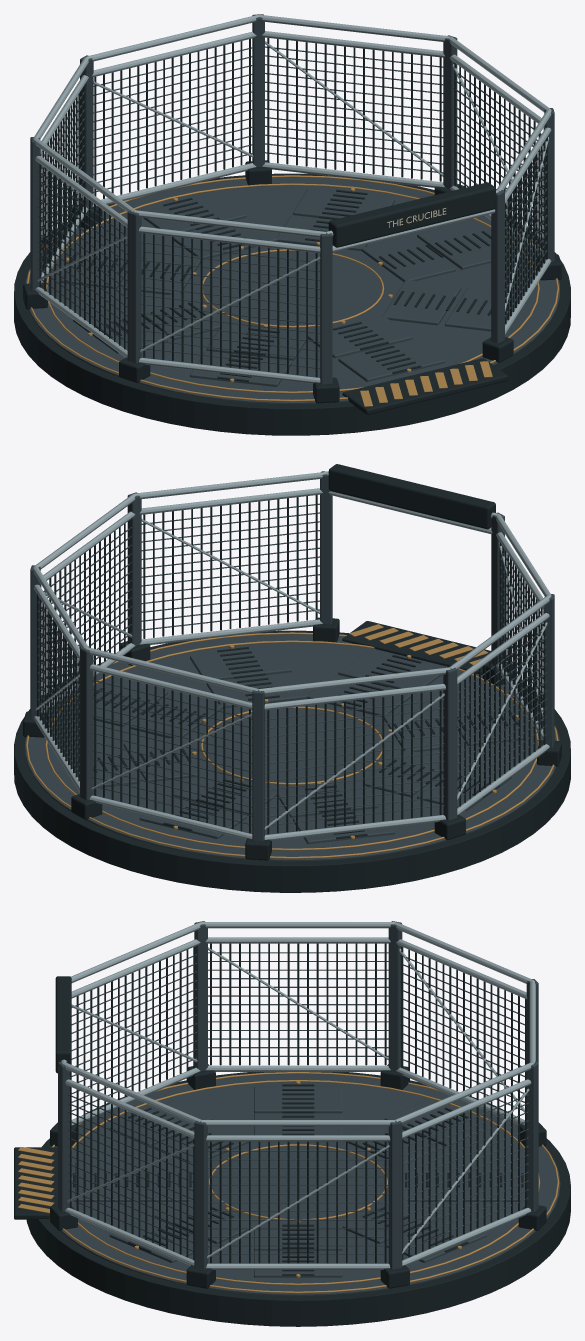
Rendered from cage-blender.glb.
3 renders of one model, top to bottom at view 1: azimuth 30°, elevation 25°; view 2: azimuth 150°, elevation 25°; view 3: azimuth 270°, elevation 25°, orthographic. The views are drawn at different scales.
Visible parts, largest first — view 1: Cage · surfaces; view 2: Cage · surfaces; view 3: Cage · surfaces.
Boxes of the visible parts, x1,y1,x2,y2 form: Cage · surfaces: [14, 14, 570, 435]; Cage · surfaces: [14, 464, 570, 892]; Cage · surfaces: [14, 921, 570, 1326].
Bounding box in the file's own units: 12.9 × 5.17 × 13.17.
